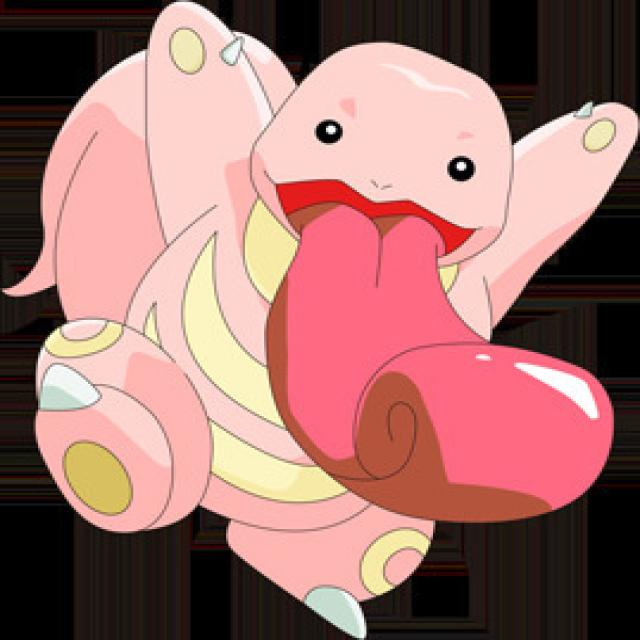Lickitung: (15, 0, 635, 640)
